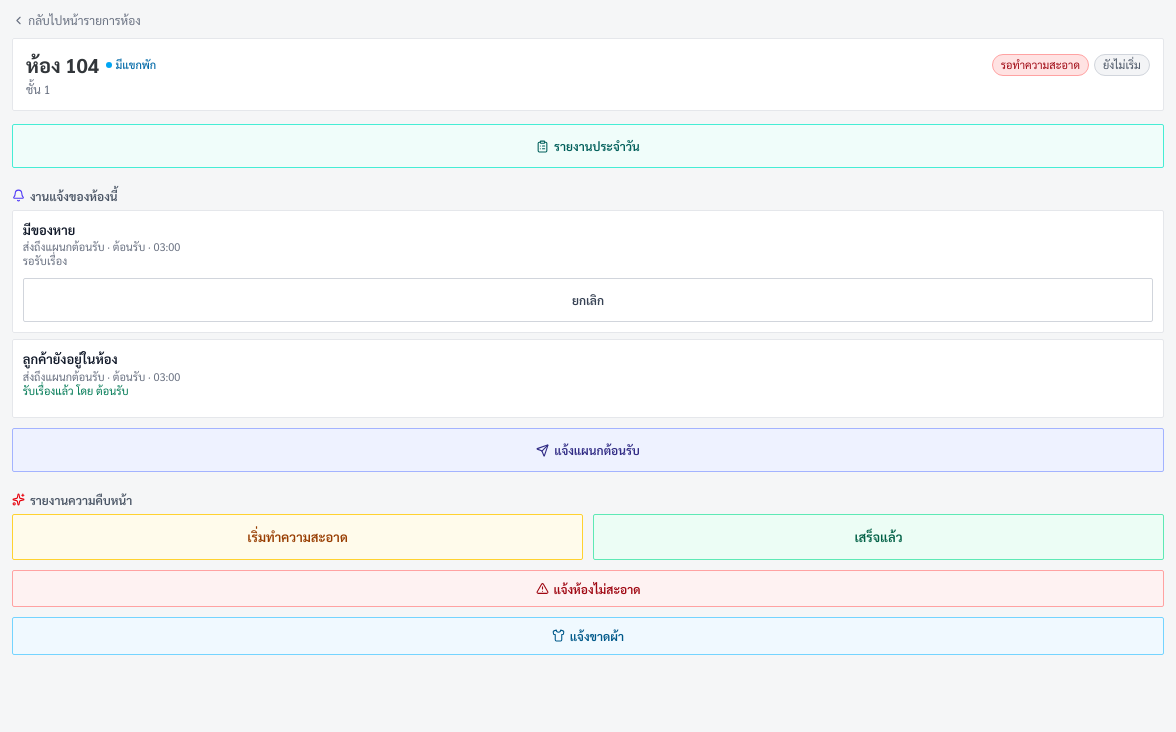
Test: maid — sending maid→desk signals › offers ยกเลิก on her own OPEN signal and not on an acked one
Expected: the heading "ห้อง 104" is shown, x1=26 y1=52 x2=99 y2=78
Click the button "ยกเลิก". click: {"x": 588, "y": 300}
box: x1=23 y1=278 x2=1153 y2=322
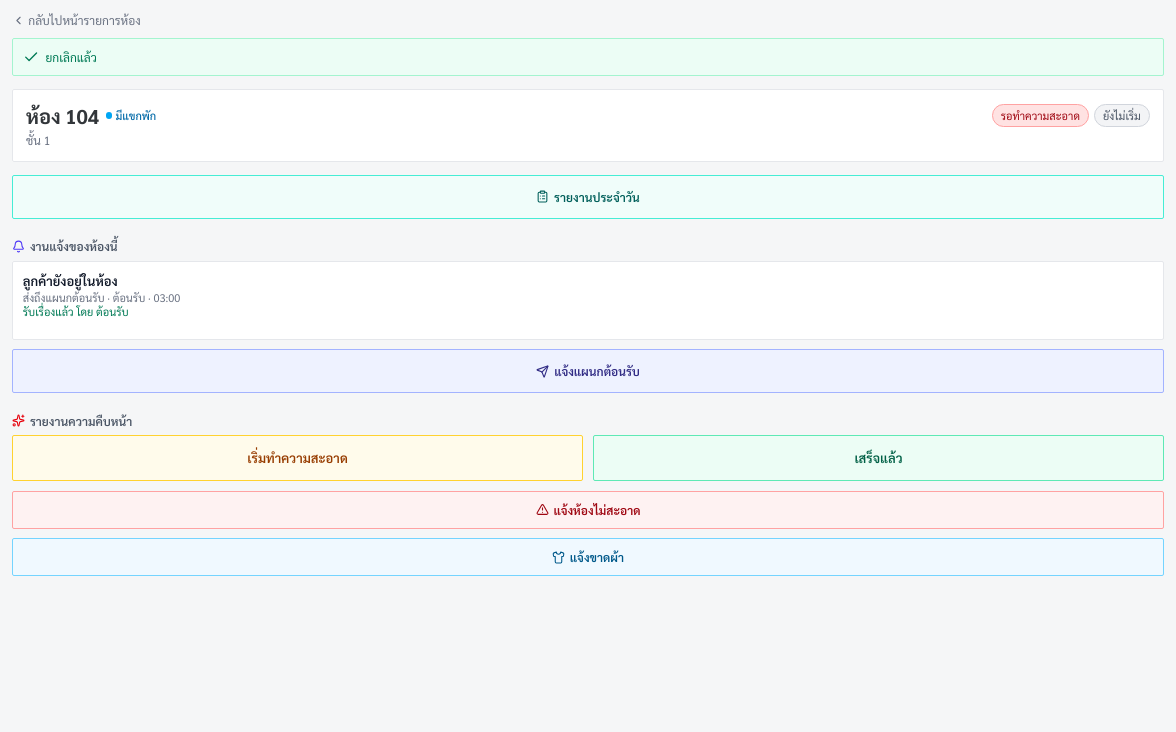
Now the list item with test id "hk-signal-41" is gone
